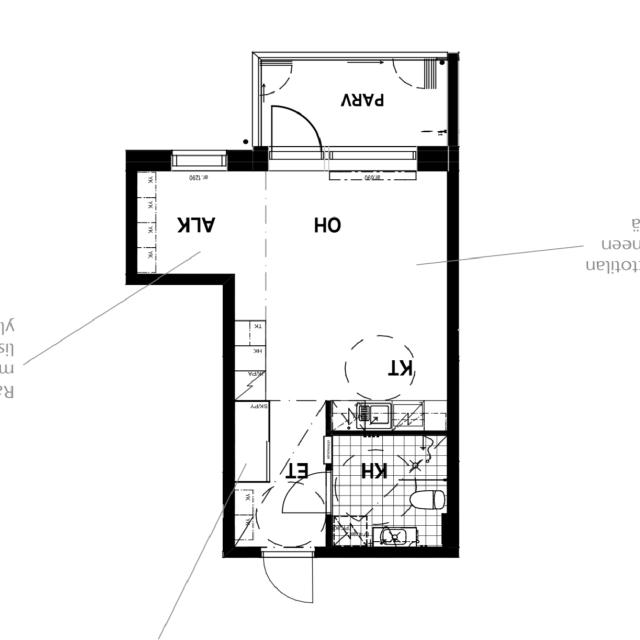door: (258, 545, 318, 607), (268, 101, 325, 157), (277, 469, 334, 520), (388, 54, 433, 94), (254, 58, 294, 97)
window: (160, 144, 234, 172)
zone: (248, 175, 450, 418), (133, 166, 266, 278), (324, 433, 450, 551), (231, 403, 269, 482), (329, 400, 394, 430)
